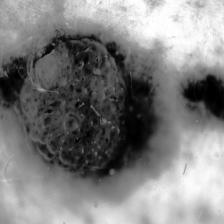Benign Marking or Mole: (10, 38, 224, 169)
